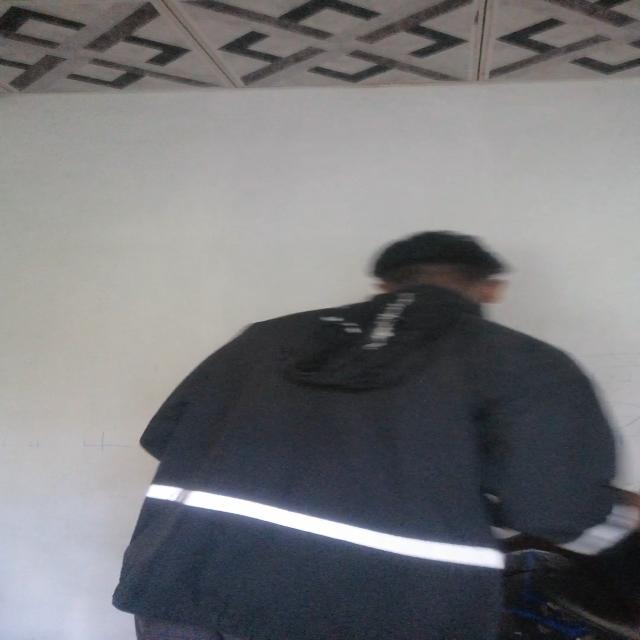Jacket_Wearer: (128, 294, 632, 628)
Person: (138, 205, 640, 640)
